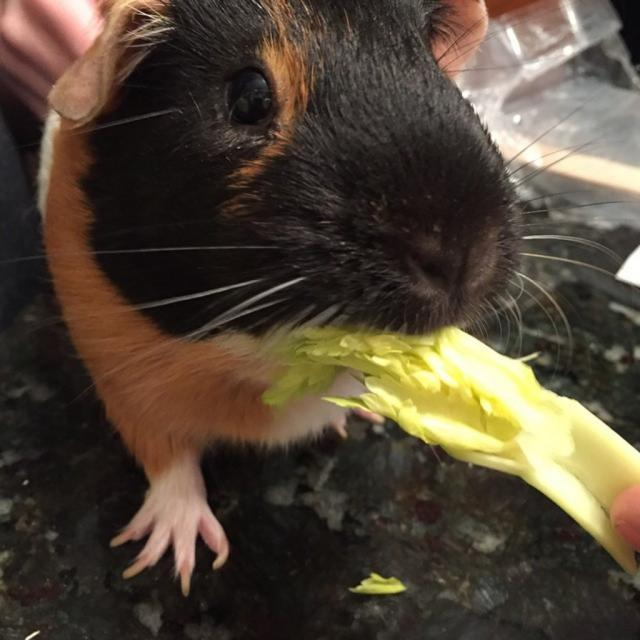rat: (38, 0, 525, 596)
